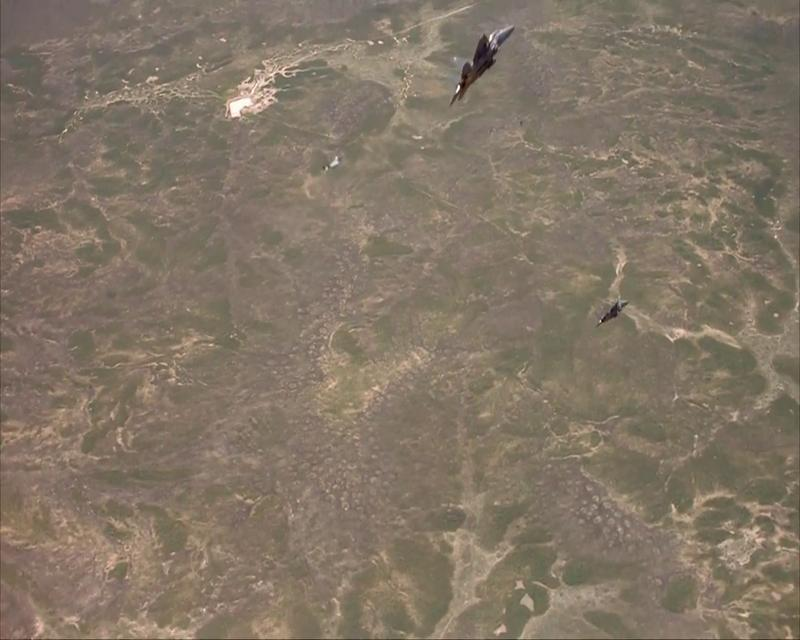UAV: (448, 24, 516, 108), (595, 292, 629, 327)
